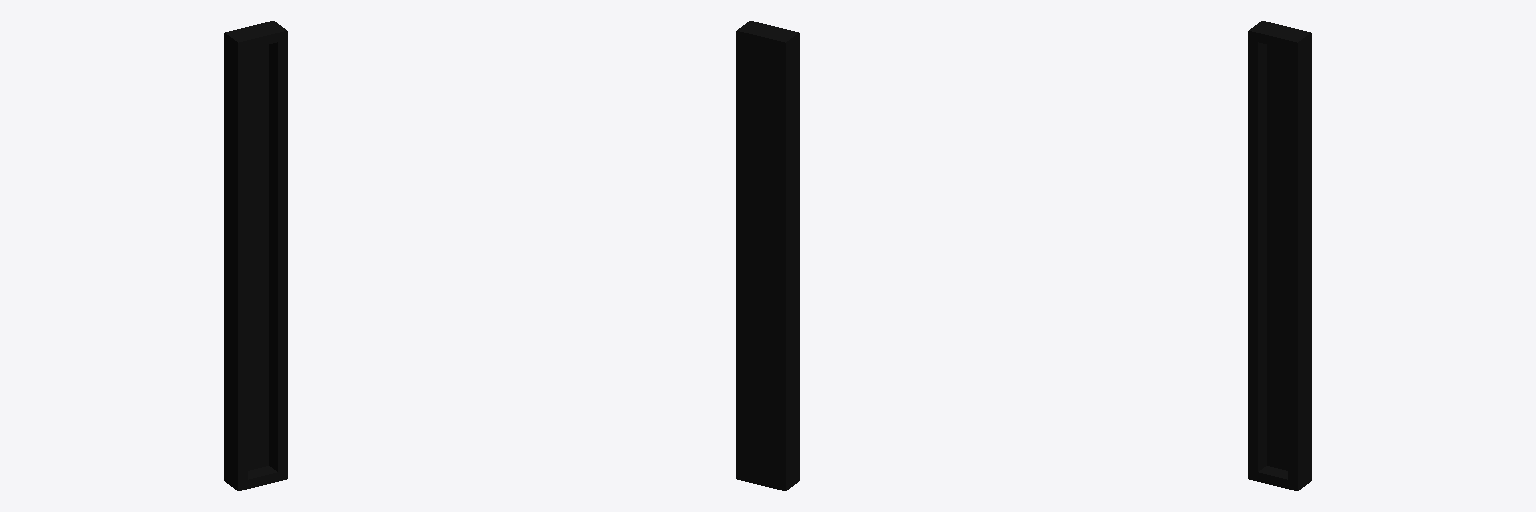
The robot description file, URDF, robot "SCARA_setup_model":
<robot
  name="SCARA_setup_model">
  <link
    name="base_link">
    <inertial>
      <origin
        xyz="1.3844408662302E-17 0.00321259358385474 0.261"
        rpy="0 0 0" />
      <mass
        value="1.493046" />
      <inertia
        ixx="0.0358036406167454"
        ixy="5.47977803491302E-19"
        ixz="2.27329839952438E-18"
        iyy="0.0363239091207001"
        iyz="5.42060051450622E-18"
        izz="0.000727504353445348" />
    </inertial>
    <visual>
      <origin
        xyz="0 0 0"
        rpy="0 0 0" />
      <geometry>
        <mesh
          filename="package://SCARA_setup_model/meshes/base_link.STL" />
      </geometry>
      <material
        name="">
        <color
          rgba="0.101960784313725 0.101960784313725 0.101960784313725 1" />
      </material>
    </visual>
    <collision>
      <origin
        xyz="0 0 0"
        rpy="0 0 0" />
      <geometry>
        <mesh
          filename="package://SCARA_setup_model/meshes/base_link.STL" />
      </geometry>
    </collision>
  </link>
  <link
    name="Cart">
    <inertial>
      <origin
        xyz="7.5418545308525E-16 0.0316476937505298 -0.0055045146502736"
        rpy="0 0 0" />
      <mass
        value="0.571810586822584" />
      <inertia
        ixx="0.0012650642271779"
        ixy="-2.79830099705637E-19"
        ixz="3.17194898729487E-20"
        iyy="0.00043905267530355"
        iyz="-9.10320245977086E-05"
        izz="0.00106491934489785" />
    </inertial>
    <visual>
      <origin
        xyz="0 0 0"
        rpy="0 0 0" />
      <geometry>
        <mesh
          filename="package://SCARA_setup_model/meshes/Cart.STL" />
      </geometry>
      <material
        name="">
        <color
          rgba="0.752941176470588 0.752941176470588 0.752941176470588 1" />
      </material>
    </visual>
    <collision>
      <origin
        xyz="0 0 0"
        rpy="0 0 0" />
      <geometry>
        <mesh
          filename="package://SCARA_setup_model/meshes/Cart.STL" />
      </geometry>
    </collision>
  </link>
  <joint
    name="Linear"
    type="prismatic">
    <origin
      xyz="0 -0.0185 0.049"
      rpy="3.1416 0 0" />
    <parent
      link="base_link" />
    <child
      link="Cart" />
    <axis
      xyz="0 0 -1" />
    <limit
      lower="0"
      upper="0.4"
      effort="0"
      velocity="0" />
  </joint>
  <link
    name="Arm">
    <inertial>
      <origin
        xyz="-0.175 -0.0203005702056909 4.67062637625889E-16"
        rpy="0 0 0" />
      <mass
        value="0.313727406555667" />
      <inertia
        ixx="7.33963970221476E-05"
        ixy="3.72694496791892E-20"
        ixz="1.71820782957866E-19"
        iyy="0.0068480445038199"
        iyz="-1.28131378462755E-21"
        izz="0.006840237379281" />
    </inertial>
    <visual>
      <origin
        xyz="0 0 0"
        rpy="0 0 0" />
      <geometry>
        <mesh
          filename="package://SCARA_setup_model/meshes/Arm.STL" />
      </geometry>
      <material
        name="">
        <color
          rgba="0.752941176470588 0.752941176470588 0.752941176470588 1" />
      </material>
    </visual>
    <collision>
      <origin
        xyz="0 0 0"
        rpy="0 0 0" />
      <geometry>
        <mesh
          filename="package://SCARA_setup_model/meshes/Arm.STL" />
      </geometry>
    </collision>
  </link>
  <joint
    name="Shoulder"
    type="revolute">
    <origin
      xyz="0 0.094508 0.0285"
      rpy="-1.5708 0 -1.5708" />
    <parent
      link="Cart" />
    <child
      link="Arm" />
    <axis
      xyz="0 -1 0" />
    <limit
      lower="-1.57"
      upper="1.57"
      effort="0"
      velocity="0" />
  </joint>
  <link
    name="ForeArm">
    <inertial>
      <origin
        xyz="0.016044 0.14438 -0.031349"
        rpy="0 0 0" />
      <mass
        value="0.46163" />
      <inertia
        ixx="0.01102"
        ixy="-0.0001634"
        ixz="-5.2062E-05"
        iyy="0.00025416"
        iyz="0.00031928"
        izz="0.010944" />
    </inertial>
    <visual>
      <origin
        xyz="0 0 0"
        rpy="0 0 0" />
      <geometry>
        <mesh
          filename="package://SCARA_setup_model/meshes/ForeArm.STL" />
      </geometry>
      <material
        name="">
        <color
          rgba="0.75294 0.75294 0.75294 1" />
      </material>
    </visual>
    <collision>
      <origin
        xyz="0 0 0"
        rpy="0 0 0" />
      <geometry>
        <mesh
          filename="package://SCARA_setup_model/meshes/ForeArm.STL" />
      </geometry>
    </collision>
  </link>
  <joint
    name="Elbow"
    type="revolute">
    <origin
      xyz="-0.35 0 0"
      rpy="7.3171E-17 -1.0978 1.5708" />
    <parent
      link="Arm" />
    <child
      link="ForeArm" />
    <axis
      xyz="-0.45558 0 0.8902" />
    <limit
      lower="-2.36"
      upper="2.36"
      effort="0"
      velocity="0" />
  </joint>
  <link
    name="Hand">
    <inertial>
      <origin
        xyz="-0.028358 0.039701 3.8215E-16"
        rpy="0 0 0" />
      <mass
        value="0.281" />
      <inertia
        ixx="0.00019852"
        ixy="-1.7563E-05"
        ixz="-3.1422E-20"
        iyy="0.00027055"
        iyz="-1.2638E-20"
        izz="0.00038709" />
    </inertial>
    <visual>
      <origin
        xyz="0 0 0"
        rpy="0 0 0" />
      <geometry>
        <mesh
          filename="package://SCARA_setup_model/meshes/Hand.STL" />
      </geometry>
      <material
        name="">
        <color
          rgba="0.75294 0.75294 0.75294 1" />
      </material>
    </visual>
    <collision>
      <origin
        xyz="0 0 0"
        rpy="0 0 0" />
      <geometry>
        <mesh
          filename="package://SCARA_setup_model/meshes/Hand.STL" />
      </geometry>
    </collision>
  </link>
  <joint
    name="Wrist"
    type="revolute">
    <origin
      xyz="0.022096 0.37901 -0.043174"
      rpy="-1.0978 -1.5187E-17 -1.5708" />
    <parent
      link="ForeArm" />
    <child
      link="Hand" />
    <axis
      xyz="0 -1 0" />
    <limit
      lower="-2.36"
      upper="2.36"
      effort="0"
      velocity="0" />
  </joint>
  <link
    name="Finger">
    <inertial>
      <origin
        xyz="0.013252 -3.8887E-16 1.3878E-17"
        rpy="0 0 0" />
      <mass
        value="0.18562" />
      <inertia
        ixx="4.051E-05"
        ixy="9.2093E-21"
        ixz="-8.2488E-21"
        iyy="6.2332E-05"
        iyz="1.0989E-21"
        izz="7.0561E-05" />
    </inertial>
    <visual>
      <origin
        xyz="0 0 0"
        rpy="0 0 0" />
      <geometry>
        <mesh
          filename="package://SCARA_setup_model/meshes/Finger.STL" />
      </geometry>
      <material
        name="">
        <color
          rgba="0.75294 0.75294 0.75294 1" />
      </material>
    </visual>
    <collision>
      <origin
        xyz="0 0 0"
        rpy="0 0 0" />
      <geometry>
        <mesh
          filename="package://SCARA_setup_model/meshes/Finger.STL" />
      </geometry>
    </collision>
  </link>
  <joint
    name="FingerJoint"
    type="revolute">
    <origin
      xyz="-0.12711 0.0285 0"
      rpy="-1.5708 -6.123E-17 3.1416" />
    <parent
      link="Hand" />
    <child
      link="Finger" />
    <axis
      xyz="0 1 0" />
    <limit
      lower="-1.57"
      upper="1.57"
      effort="0"
      velocity="0" />
  </joint>
</robot>

--- What the picture shows (computed from the rendered views, not written in the file) ---
The picture shows the robot from 3 angles, left to right: view 1: azimuth 30°, elevation 25°; view 2: azimuth 150°, elevation 25°; view 3: azimuth 330°, elevation 25°; orthographic projection.
Model SCARA_setup_model with 6 links and 5 joints (4 revolute, 1 prismatic), rooted at base_link, posed all joints at 0.
Visible links, largest first — view 1: base_link; view 2: base_link; view 3: base_link.
Link boxes in pixels (box(x1,y1,x2,y2)): base_link: box(224, 21, 287, 490); base_link: box(736, 21, 799, 490); base_link: box(1248, 21, 1311, 490).
Bounding box of the posed robot: 0.06 × 0.029 × 0.522 m (x, y, z).
1 mesh visuals loaded from 6 distinct referenced files (1 binary STL); not drawn: 5 (reference not matched to a file when rendering).